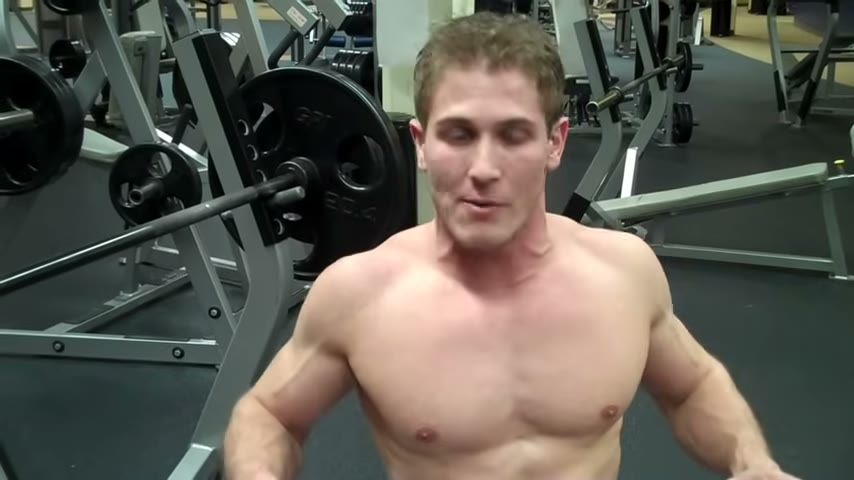barbell_plate_side: (283, 21, 435, 323)
